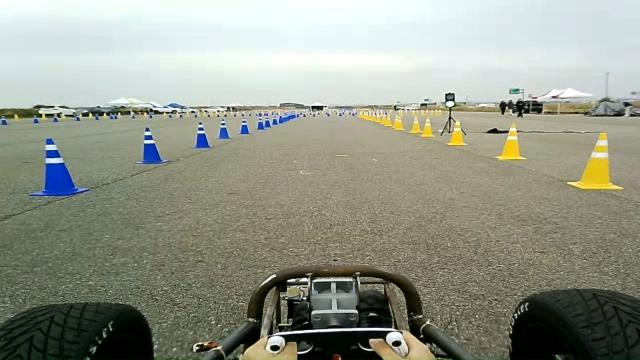blue cone: (28, 138, 90, 197), (134, 126, 168, 164), (191, 121, 213, 148), (216, 118, 232, 140), (238, 117, 251, 134), (255, 115, 265, 130), (263, 120, 271, 128)
yellow cone: (566, 132, 624, 190), (494, 123, 527, 160), (446, 118, 467, 145), (420, 117, 434, 137), (408, 114, 422, 134), (393, 118, 404, 130), (383, 116, 393, 127)
